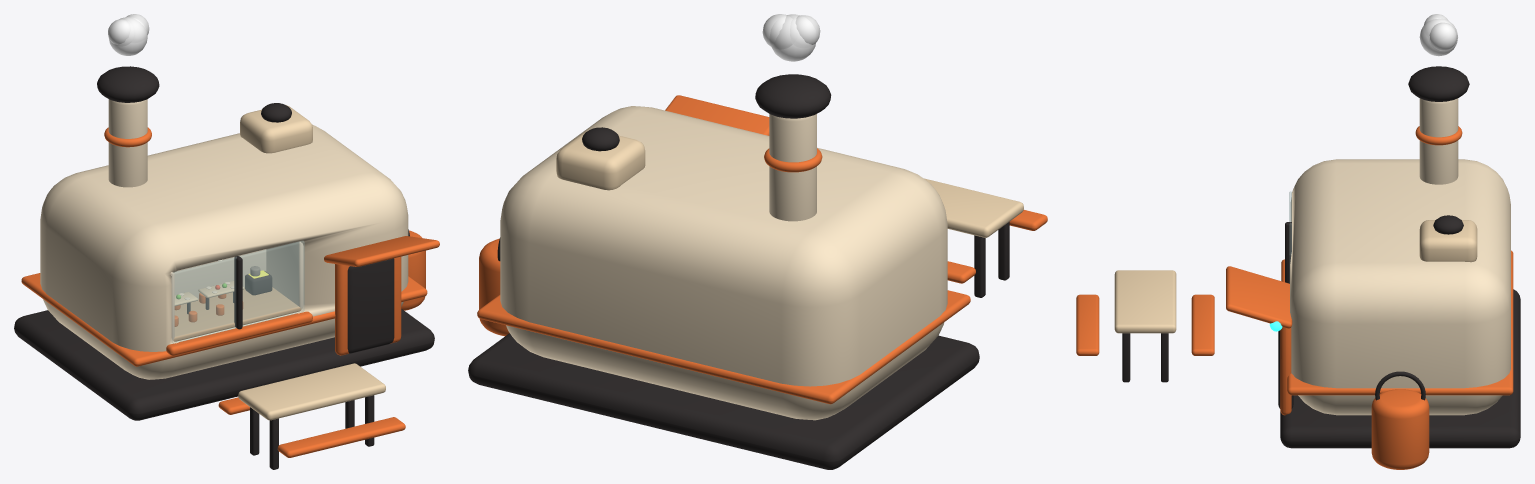
Rendered from kitchen-1.glb.
3 renders of one model, left to right at view 1: azimuth 30°, elevation 25°; view 2: azimuth 150°, elevation 25°; view 3: azimuth 270°, elevation 25°, orthographic. The views are drawn at different scales.
Visible parts, largest first — view 1: Cube.001, Cube, Cube.012, Cube.011, Cube.006, Cube.002, Cube.003, Sphere.007; view 2: Cube.001, Cube, Cube.012, Cube.006, Sphere.007; view 3: Cube.001, Cube.012, Cube, Cube.006, Sphere.007.
Part boxes in pixels (x1,y1,x2,y2): Cube.001: (40, 99, 408, 379); Cube: (14, 66, 434, 469); Cube.012: (21, 127, 439, 457); Cube.011: (171, 241, 304, 343); Cube.006: (174, 104, 385, 420); Cube.002: (170, 241, 303, 340); Cube.003: (173, 287, 301, 341); Sphere.007: (108, 14, 149, 55); Cube.001: (500, 106, 947, 420); Cube: (468, 74, 1009, 469); Cube.012: (477, 95, 1047, 404); Cube.006: (556, 130, 1023, 237); Sphere.007: (762, 14, 820, 61); Cube.001: (1290, 98, 1510, 415); Cube.012: (1076, 126, 1513, 469); Cube: (1122, 66, 1520, 448); Cube.006: (1114, 220, 1477, 333); Sphere.007: (1419, 14, 1457, 56).
Size of the model in its own units: 2.06 by 1.86 by 2.31.
